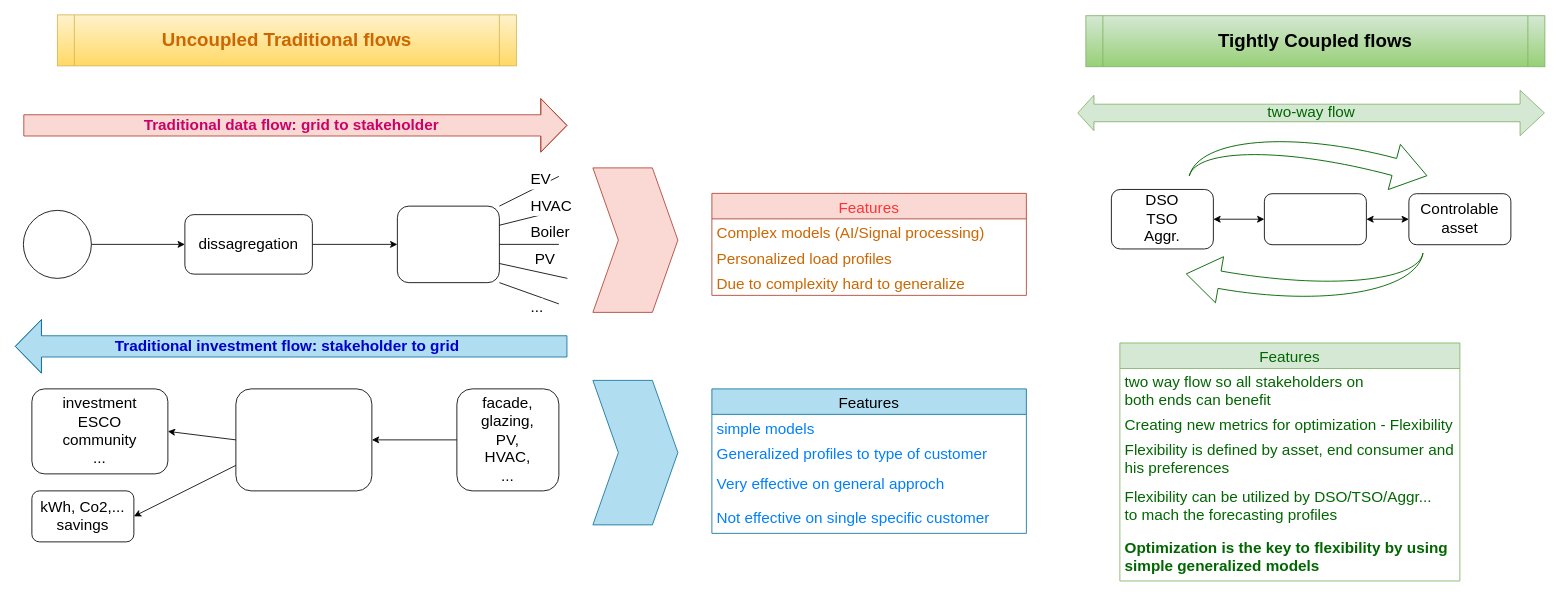
Some shapes in this 1560 by 596 pixel diagram are drawn without their labels. The shapes that lost their labels are listed below. From the top down, each one's box as (x1, y1, x2, y2) in pixels, then its label:
(1264, 193, 1366, 245): flex/DR catalogue
(23, 210, 91, 278): SM
(397, 205, 499, 283): UI behaviour alg. alarming
(235, 388, 372, 491): Measures catalogue
